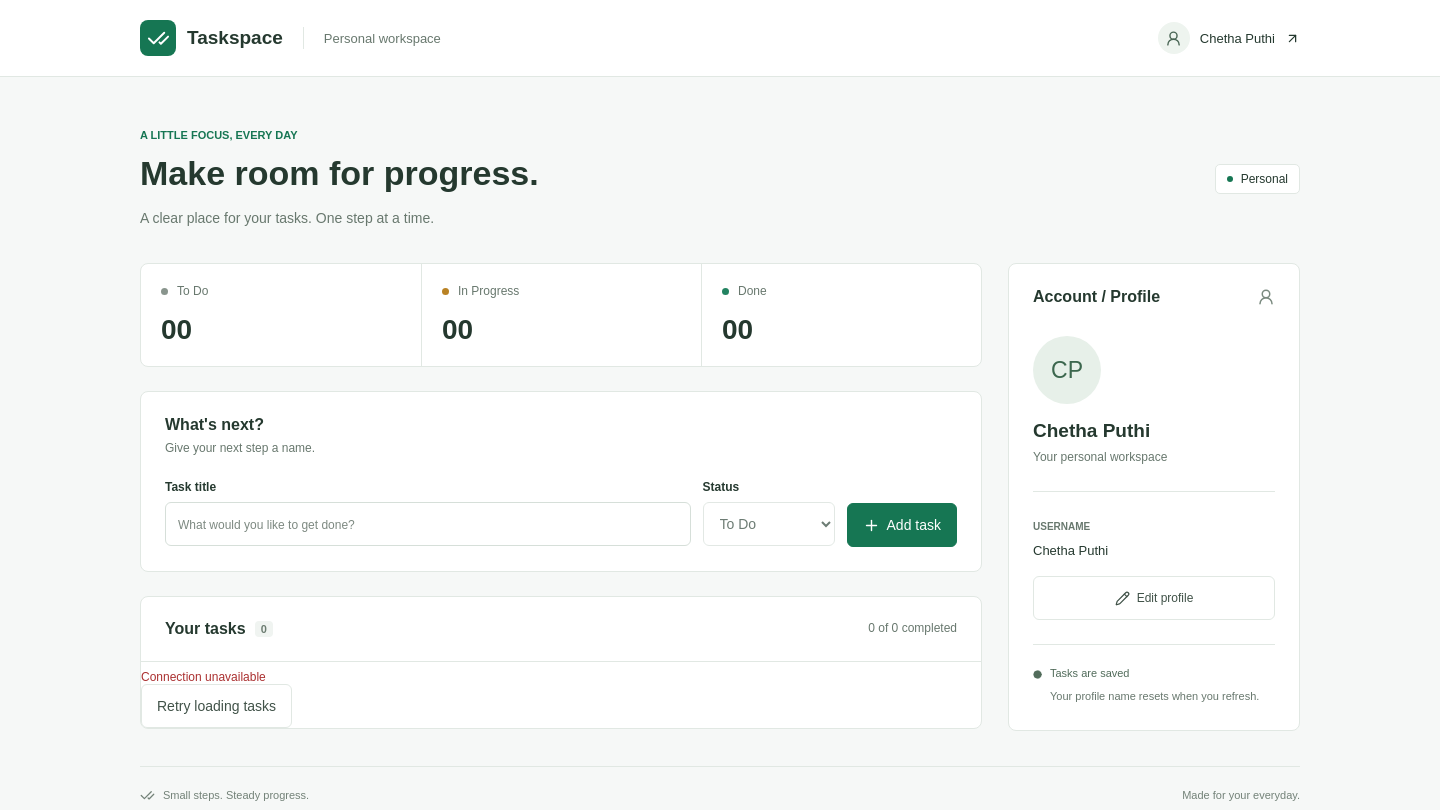
Test: Todo workspace › shows a load failure and lets the user retry
Check: the message shows "Connection unavailable", box [141,670,266,684]
Check: the button "Add task" is disabled, box [846,503,957,547]
Click the button "Retry loading tasks".
click(217, 706)  # box [141,684,292,728]
(page scrolled)
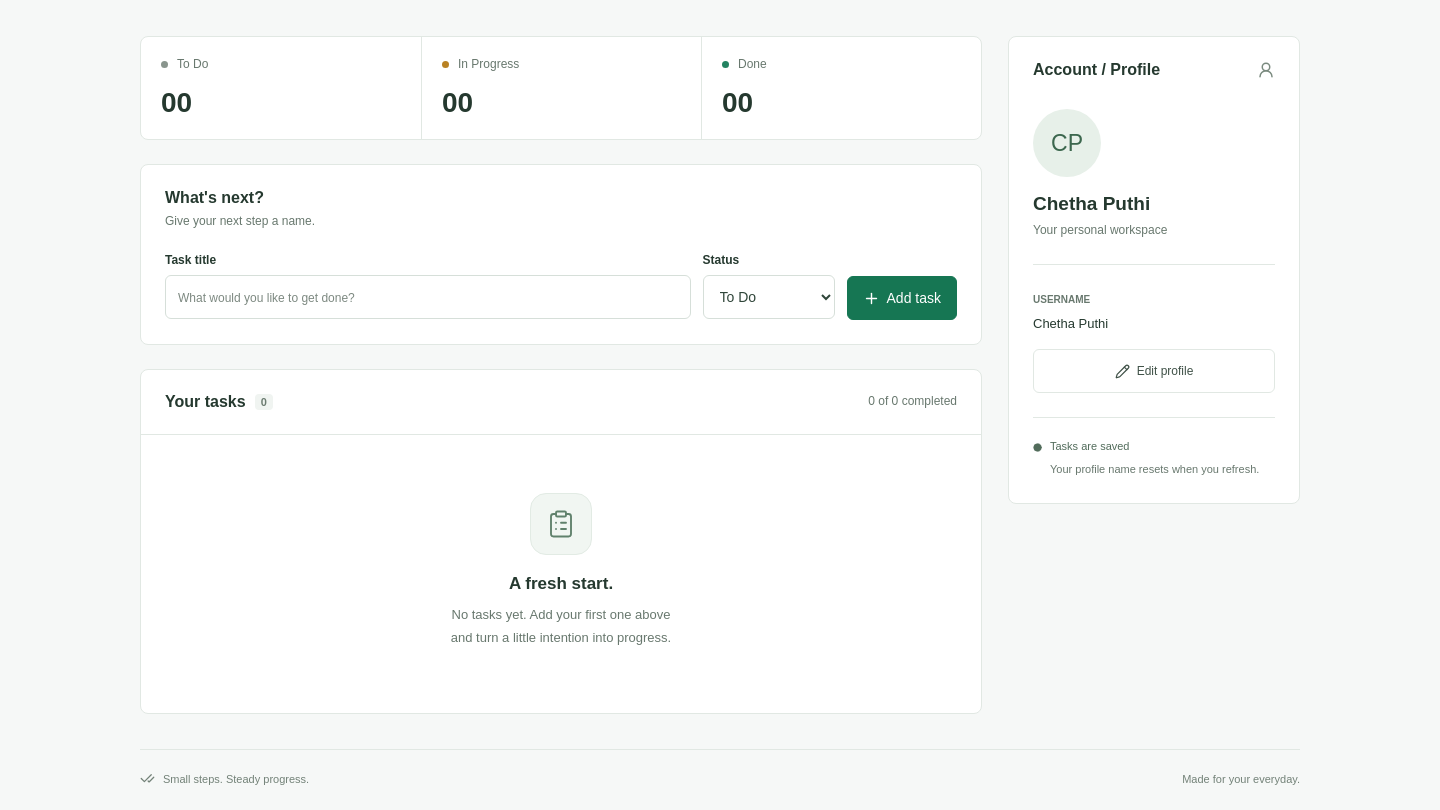
Check: the heading "A fresh start." is shown, box [509,574,613,593]
